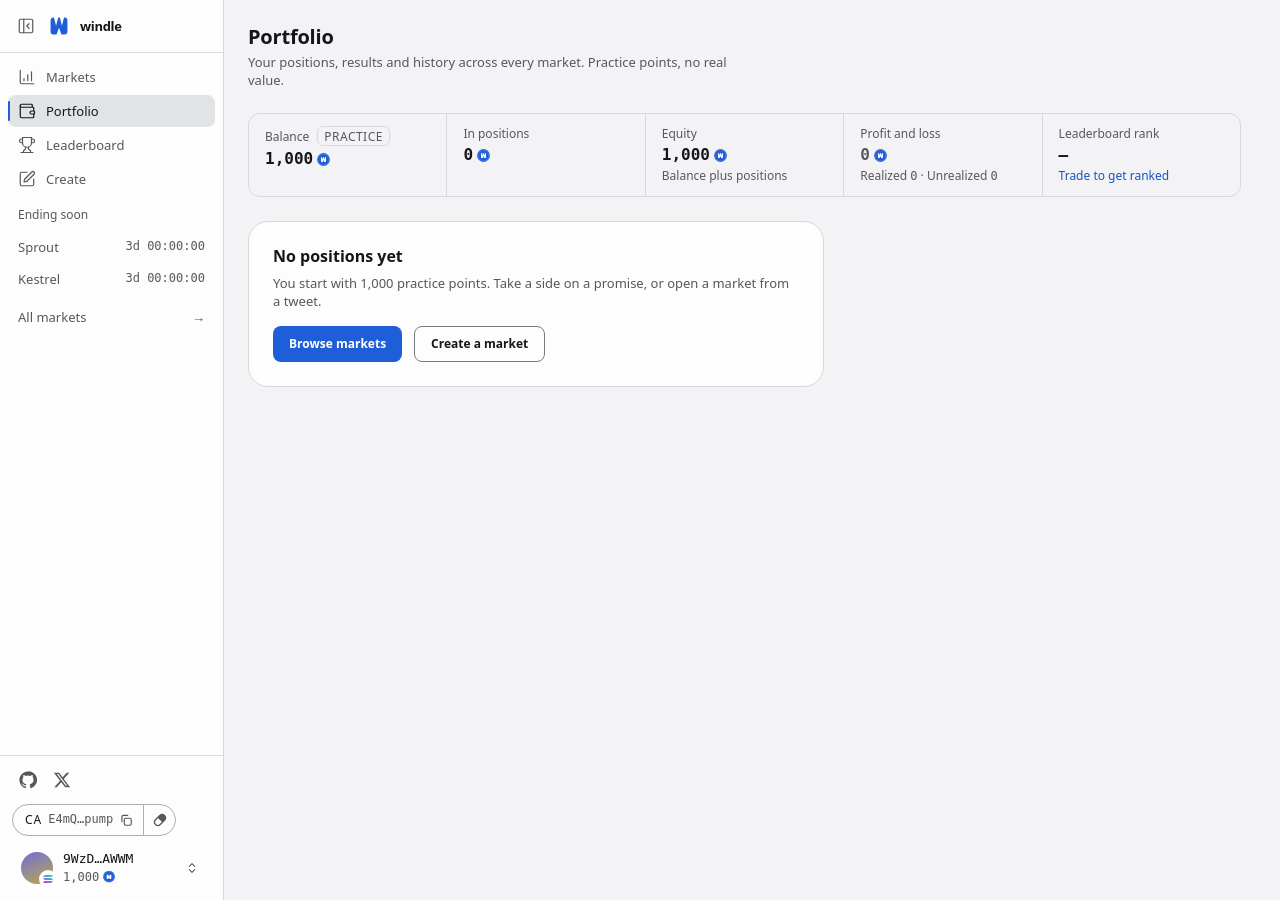
Test case: leaderboard and retired pages › the sidebar links to the leaderboard, which opens inside the shell
Expected: the heading "Portfolio" is shown, [248, 23, 334, 50]
Click the link "Leaderboard".
click(71, 145)  # box [18, 136, 124, 154]
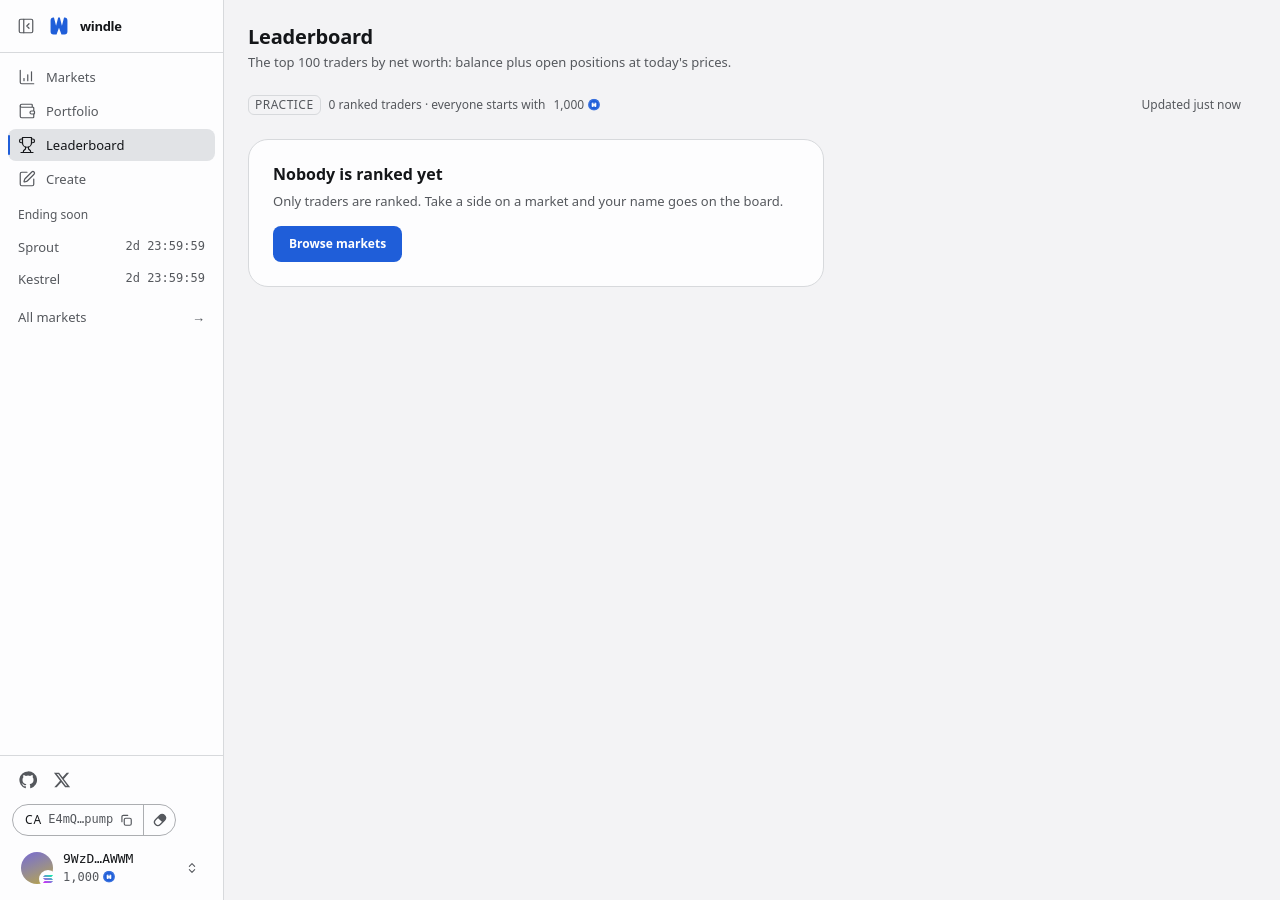
Expected: the heading "Leaderboard" is shown, [248, 23, 373, 50]
